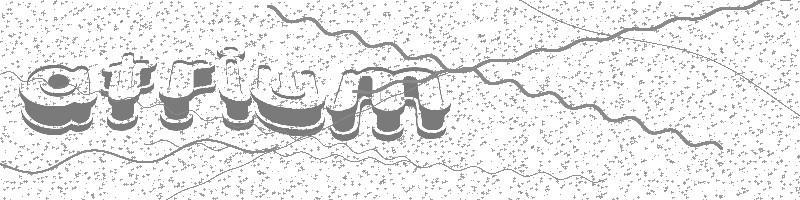a: (18, 64, 98, 136)
i: (215, 46, 256, 132)
m: (326, 66, 447, 141)
r: (158, 58, 218, 132)
t: (99, 52, 155, 132)
u: (249, 64, 327, 138)
